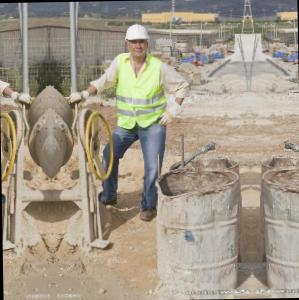helmet: (121, 20, 153, 60)
